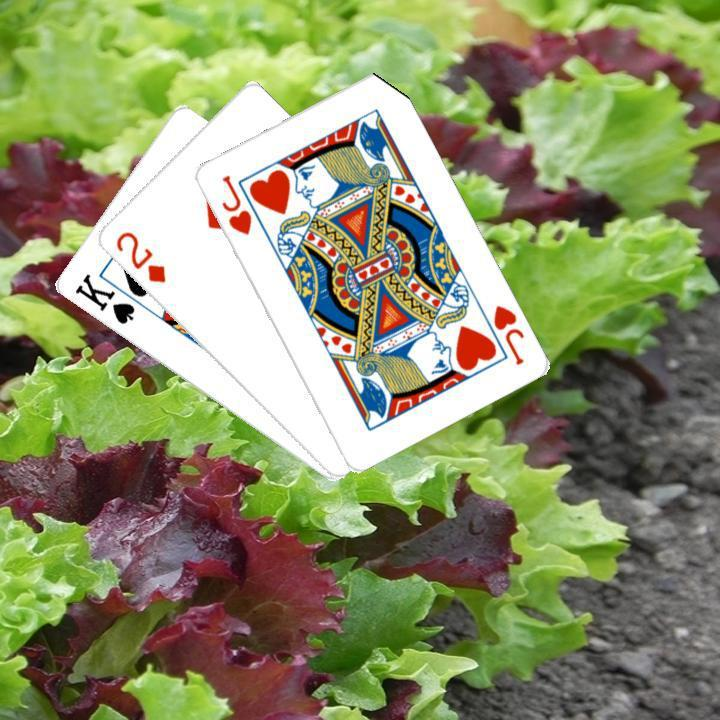2: (111, 227, 168, 285)
J: (488, 300, 526, 367), (217, 170, 253, 237)
K: (69, 269, 137, 327)
